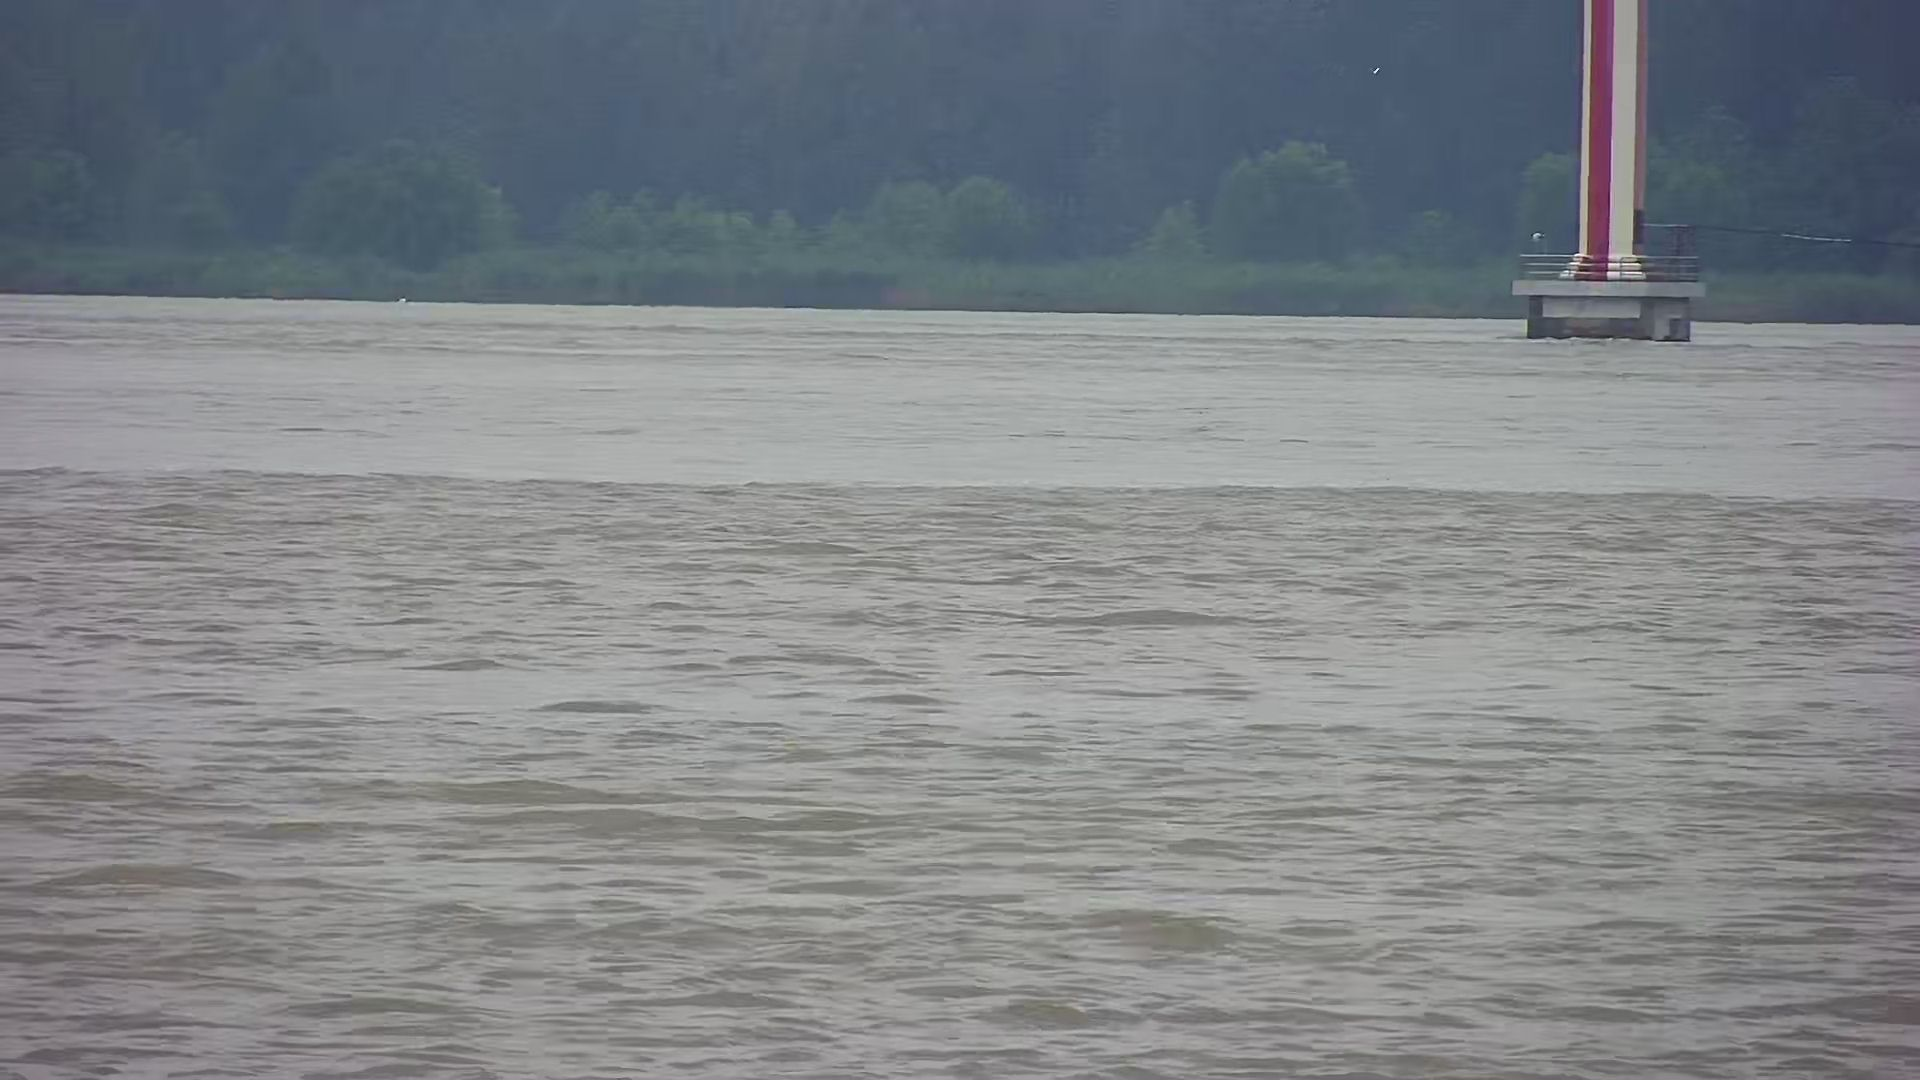platform: (1513, 3, 1704, 352)
